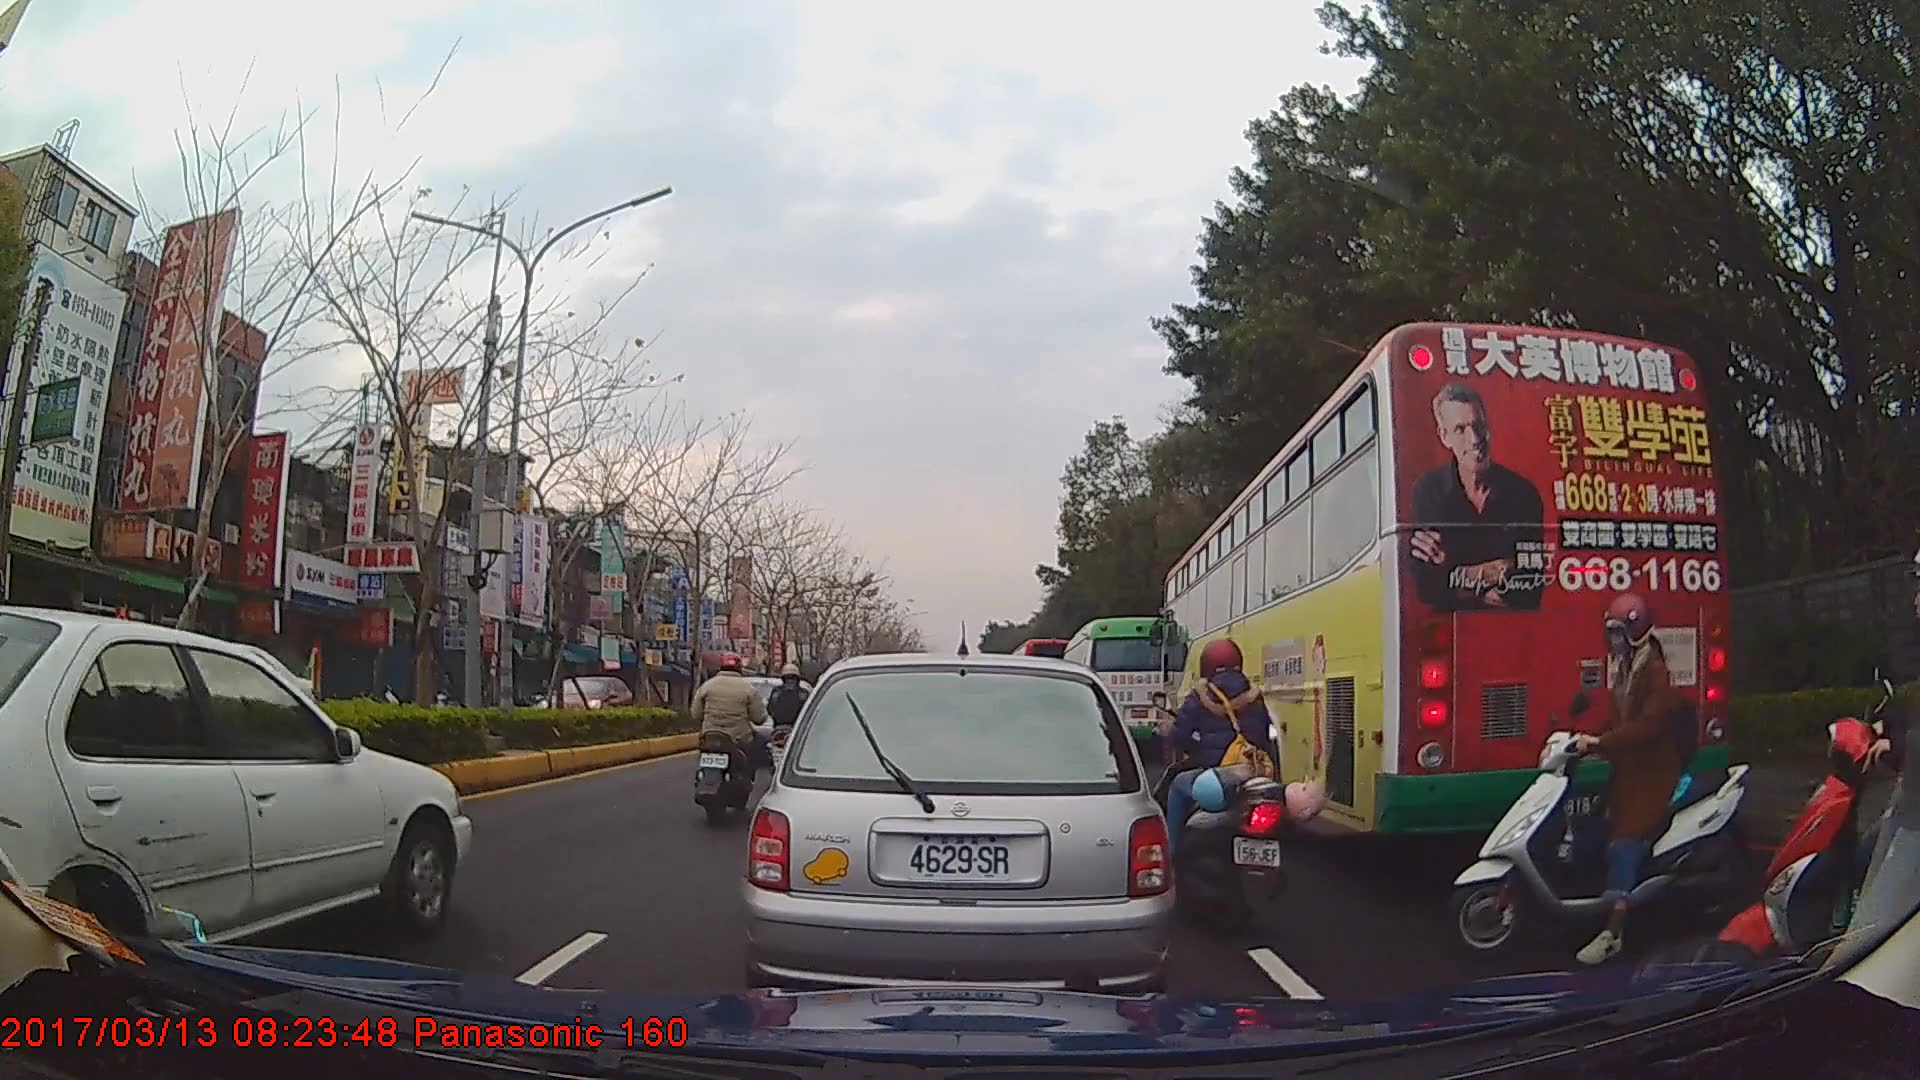rider: (1445, 591, 1749, 959), (1721, 541, 1920, 1006), (1142, 641, 1324, 942), (690, 652, 765, 824), (767, 664, 815, 766)
vehicle: (1159, 319, 1731, 846), (0, 589, 472, 960), (740, 652, 1176, 1000), (1061, 615, 1170, 759), (537, 672, 634, 732)
